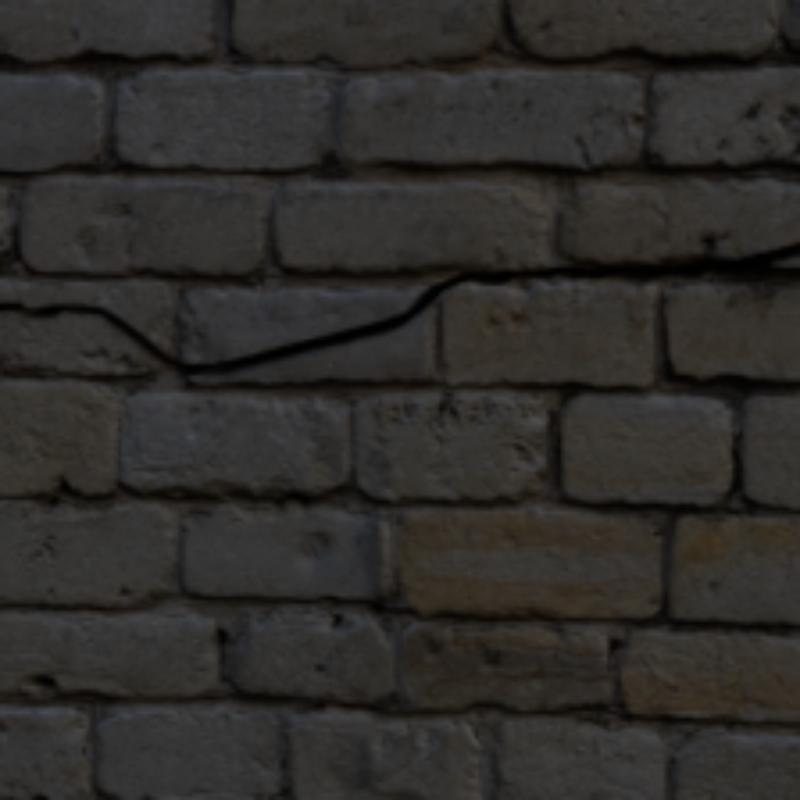crack: (61, 243, 796, 375)
